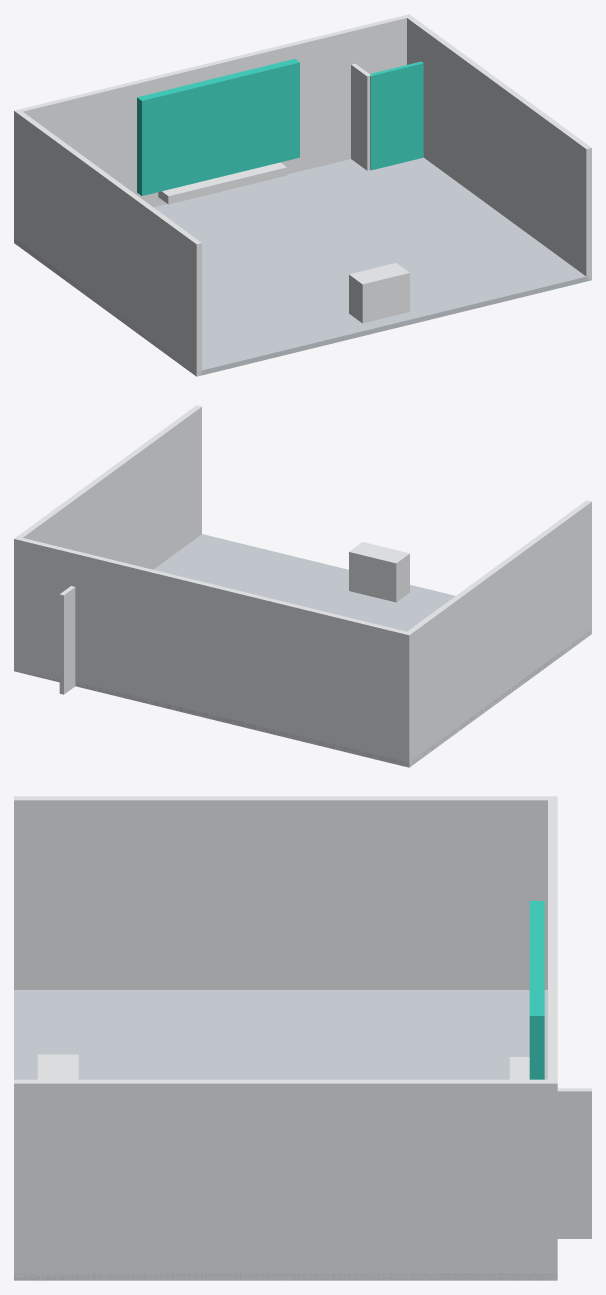
3 renders of one model, top to bottom at view 1: azimuth 30°, elevation 25°; view 2: azimuth 150°, elevation 25°; view 3: azimuth 270°, elevation 25°, orthographic. The views are drawn at different scales.
Visible parts, largest first — view 1: Exhibition Booth Concept; view 2: Exhibition Booth Concept; view 3: Exhibition Booth Concept.
Boxes of the visible parts, <box> form: Exhibition Booth Concept: <box>14,14,591,376</box>; Exhibition Booth Concept: <box>14,405,591,767</box>; Exhibition Booth Concept: <box>14,796,591,1280</box>.
Size of the model in its own units: 10 by 3.2 by 8.51.
